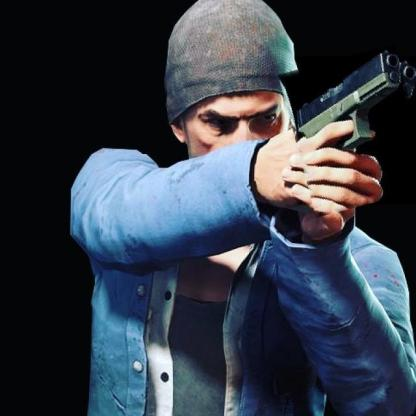handgun: (286, 50, 416, 211)
